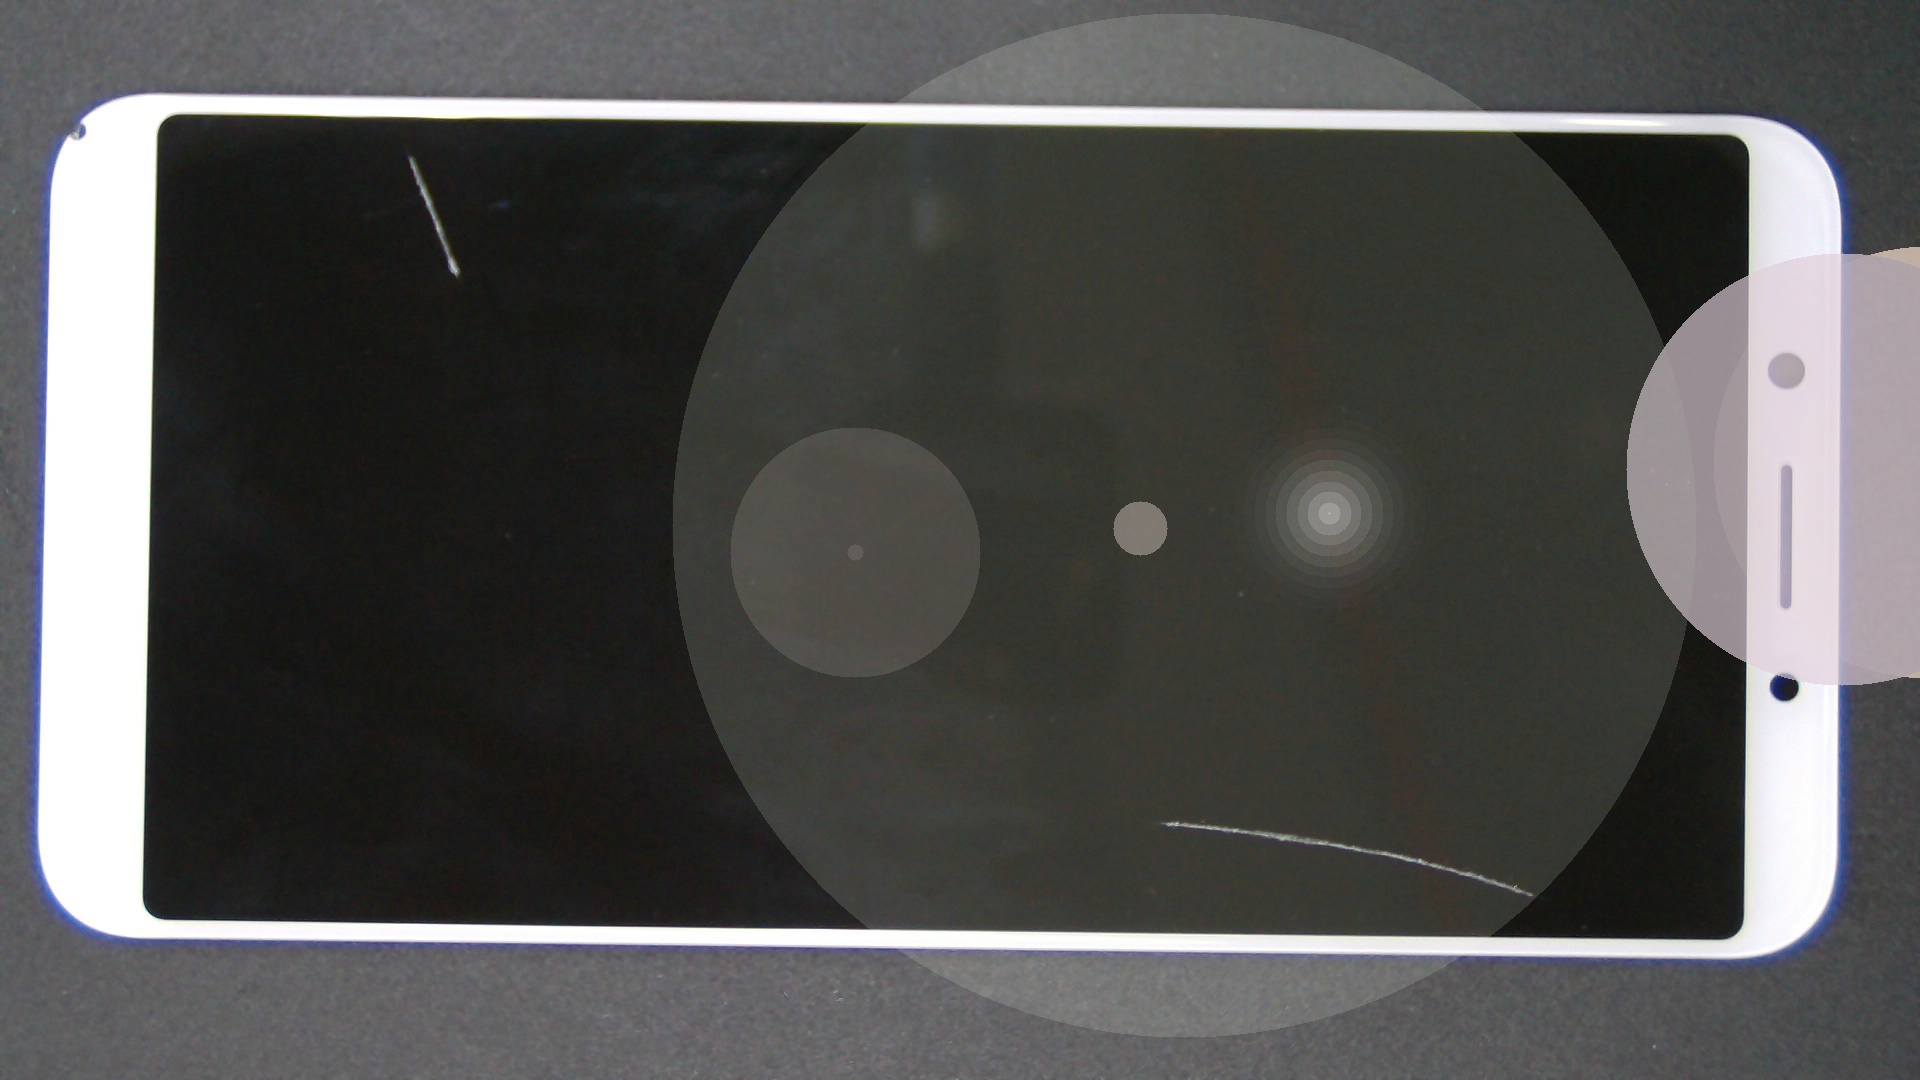oil: (588, 410, 1763, 1080), (204, 76, 613, 232)
